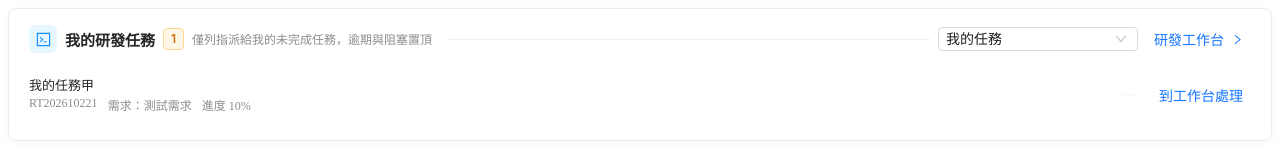
研发工作台 · 我的研發任務面板 › 切换到团队成员后加载对方任务并切换标题
expect the text "我的任務甲" is shown: met, box [29,78,94,93]
Press the mouse on the dropdown named "切換查看成員" at (1029, 39), box [946,28,1112,50]
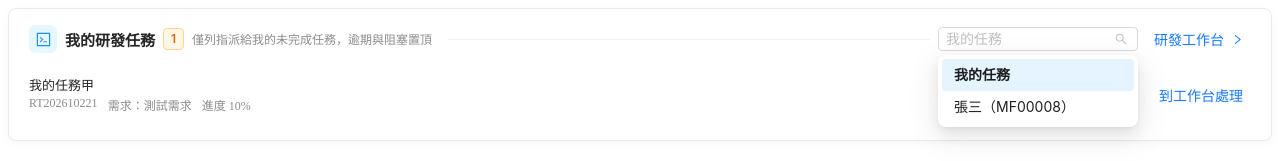
Click the text "張三（MF00008）". click: (1014, 106)
box: [954,98,1075,115]
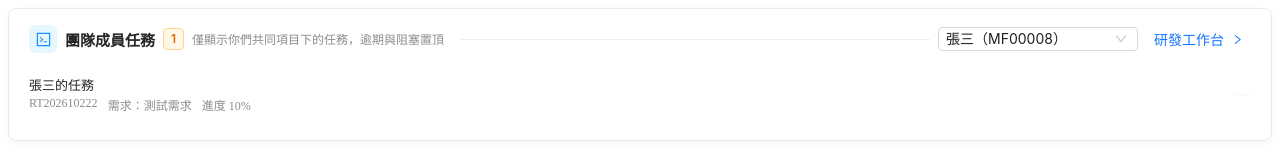
expect the text "張三的任務" is shown: met, box [29,78,94,93]
expect the text "團隊成員任務" is shown: met, box [65,32,155,48]
